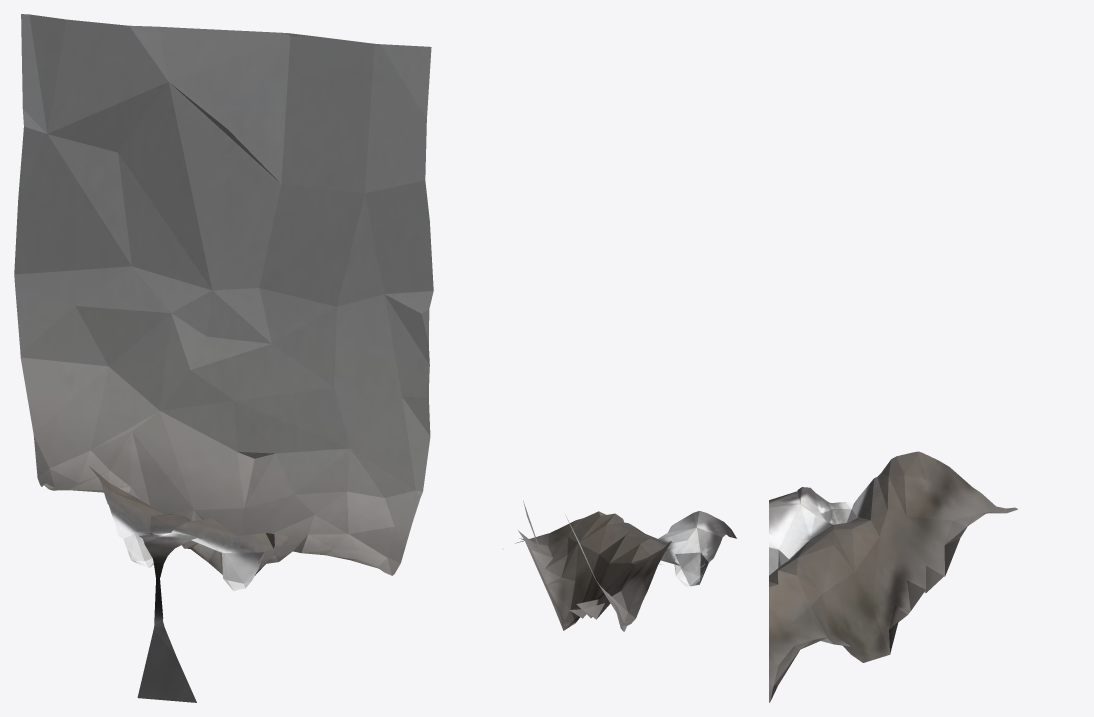
3 renders of one model, left to right at view 1: azimuth 30°, elevation 25°; view 2: azimuth 150°, elevation 25°; view 3: azimuth 270°, elevation 25°, orthographic. The views are drawn at different scales.
Bounding box in the file's own units: 0.4043 × 0.8373 × 0.3628.
2 materials, 2 textured.
